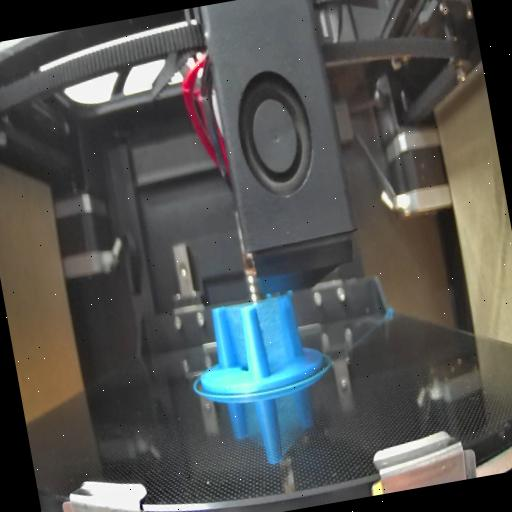stringing: (256, 293, 300, 372), (220, 306, 250, 374)
